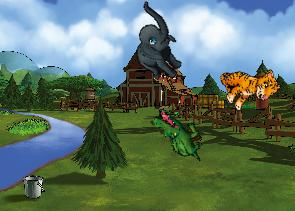crocodile: (144, 106, 213, 163)
elephant: (112, 0, 201, 87)
tiger: (214, 52, 283, 117)
